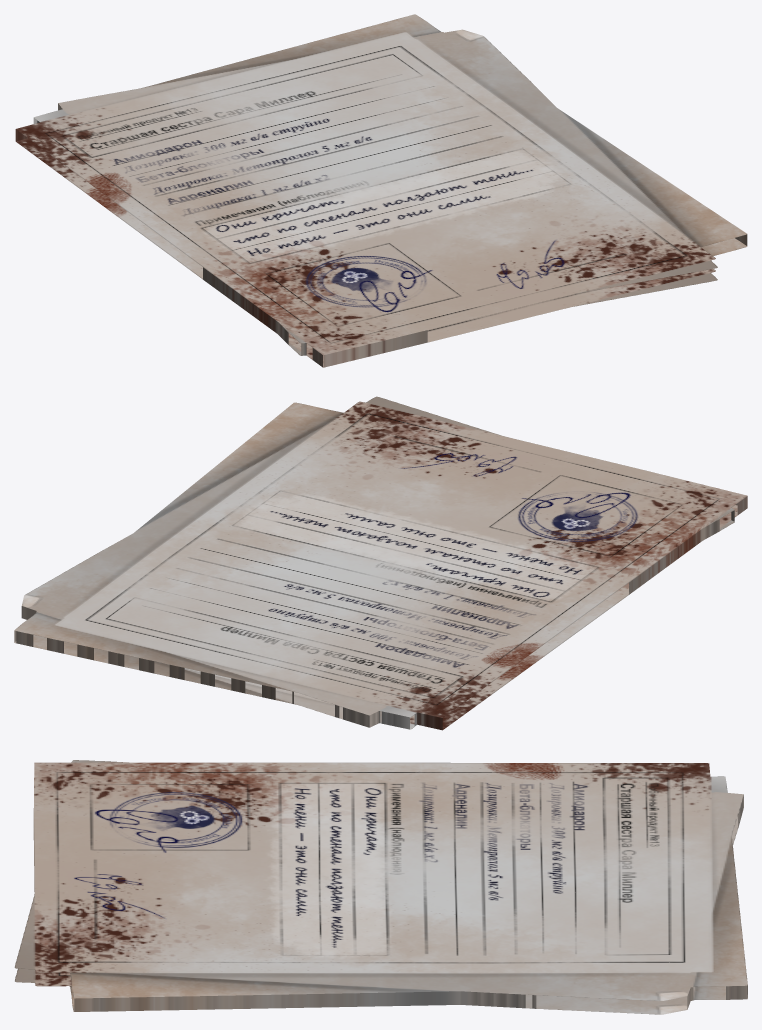
File: fast_of_the_nurse.fbx
3 views of the same model, one above another, from view 1: azimuth 30°, elevation 25°; view 2: azimuth 150°, elevation 25°; view 3: azimuth 270°, elevation 25° (orthographic). The views are drawn at different scales.
Visible parts, largest first — view 1: fast_of_the_nurse; view 2: fast_of_the_nurse; view 3: fast_of_the_nurse.
Boxes of the visible parts, <box> form: fast_of_the_nurse: <box>15,14,747,367</box>; fast_of_the_nurse: <box>14,396,747,730</box>; fast_of_the_nurse: <box>14,760,747,1014</box>.
Bounding box in the file's own units: 46.48 × 1.22 × 59.46.
